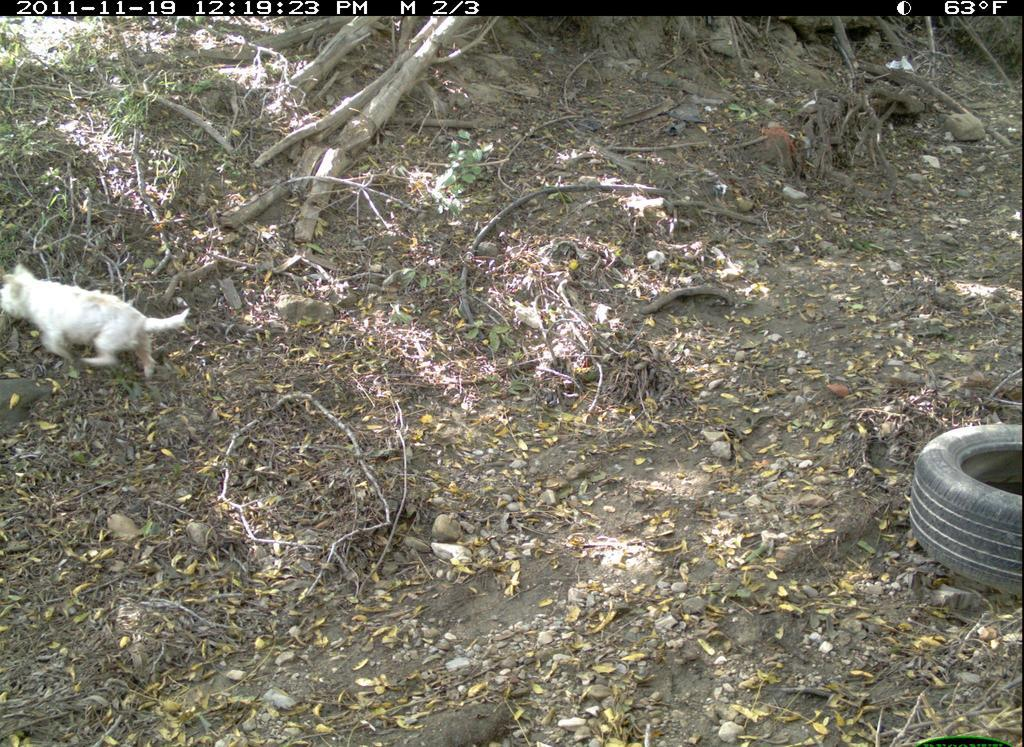dog: (1, 255, 198, 392)
